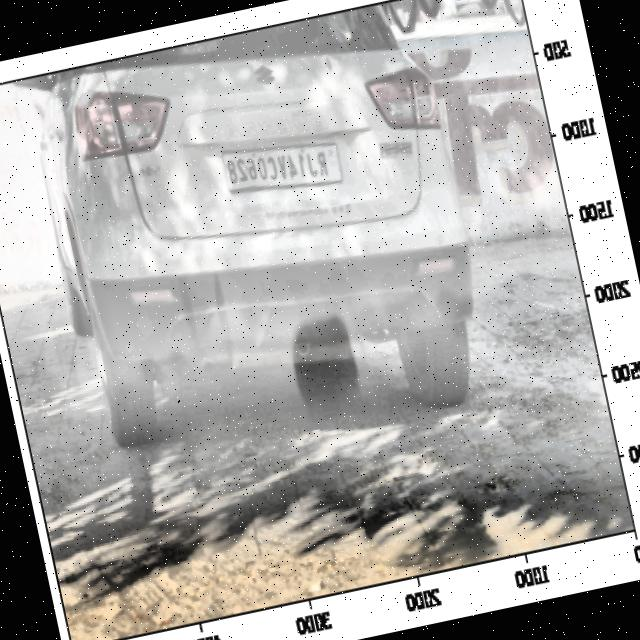license_plate: (219, 134, 336, 200)
